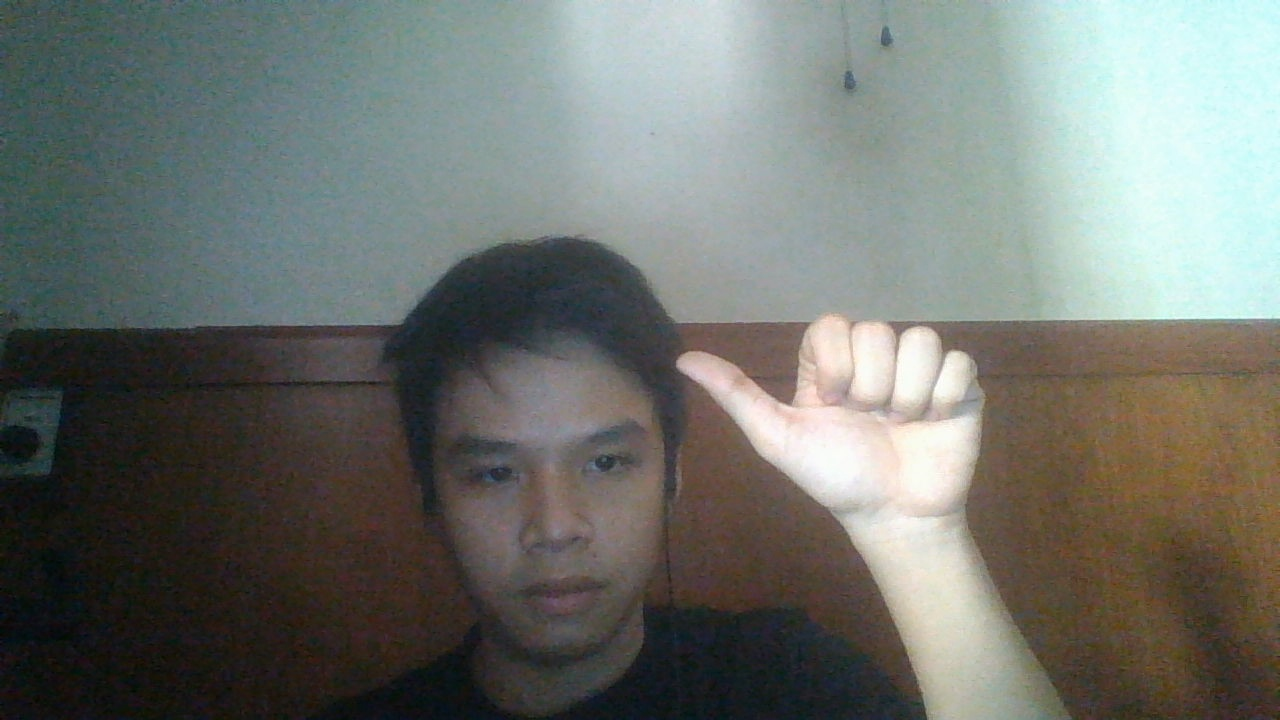back: (670, 311, 989, 518)
